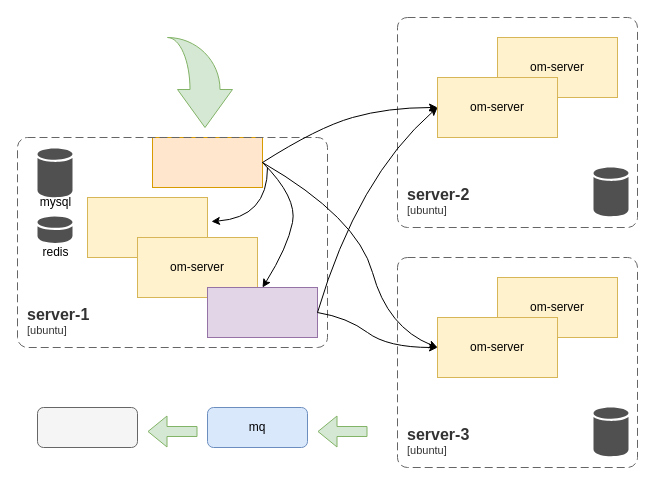
This 655x485 diagram has some shape labels left out. Here are the shapes that lost their labels. From the top down, the centre of each, then its label:
(199,82): 访问
(207,162): proxy
(147,227): dashboard-server
(262,312): etcd
(87,427): es
